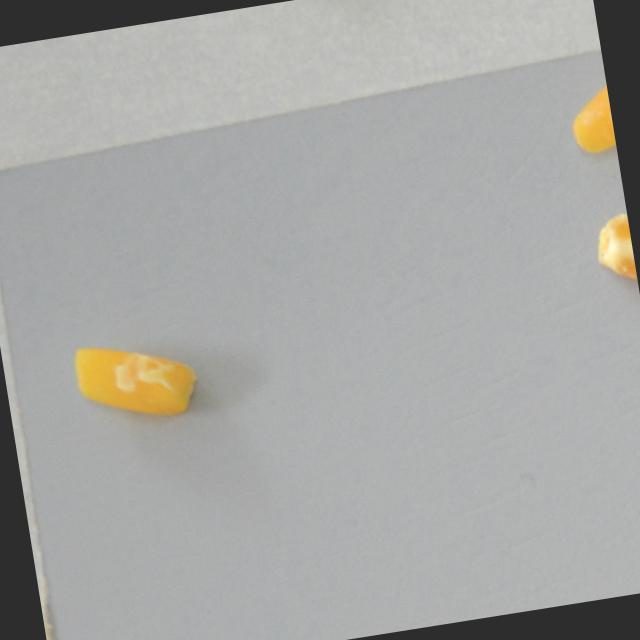dañado: (562, 60, 617, 157)
pelicula: (66, 331, 204, 431), (574, 211, 639, 298)
